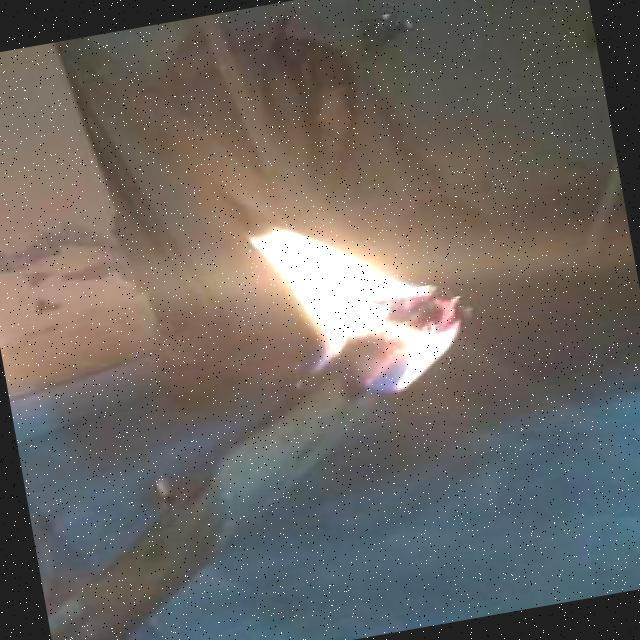Fire: (223, 183, 508, 417)
